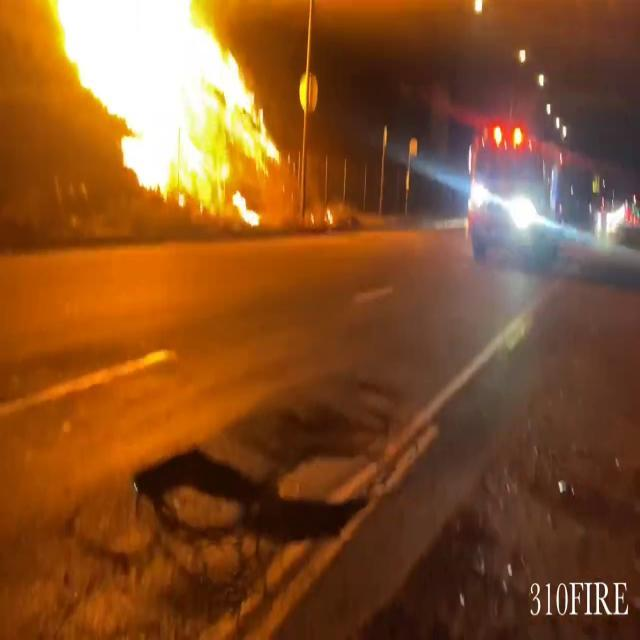Fire: (37, 0, 286, 222)
